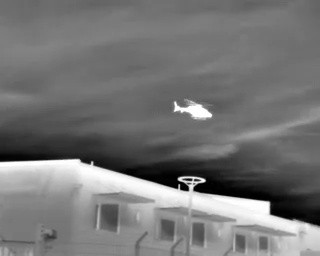HELICOPTER: (170, 93, 218, 126)
